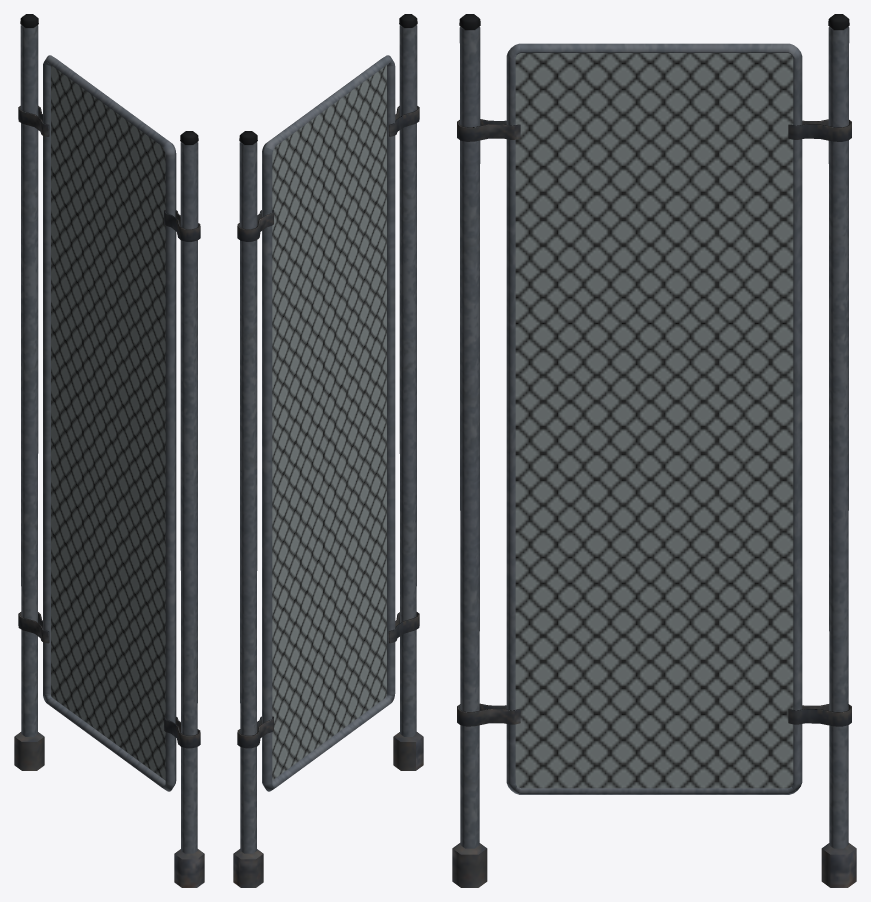
The model's file is Fence_B_E_Small.fbx.
3 views of the same model, side by side, from view 1: azimuth 30°, elevation 25°; view 2: azimuth 150°, elevation 25°; view 3: azimuth 270°, elevation 25° (orthographic). The views are drawn at different scales.
Parts seen in each view (by area): view 1: Fence_B_E_Small; view 2: Fence_B_E_Small; view 3: Fence_B_E_Small.
Boxes of the visible parts, x1,y1,x2,y2 form: Fence_B_E_Small: [14, 14, 204, 887]; Fence_B_E_Small: [233, 14, 423, 887]; Fence_B_E_Small: [452, 14, 856, 887].
Bounding box in the file's own units: 6.83 × 216 × 91.31.
